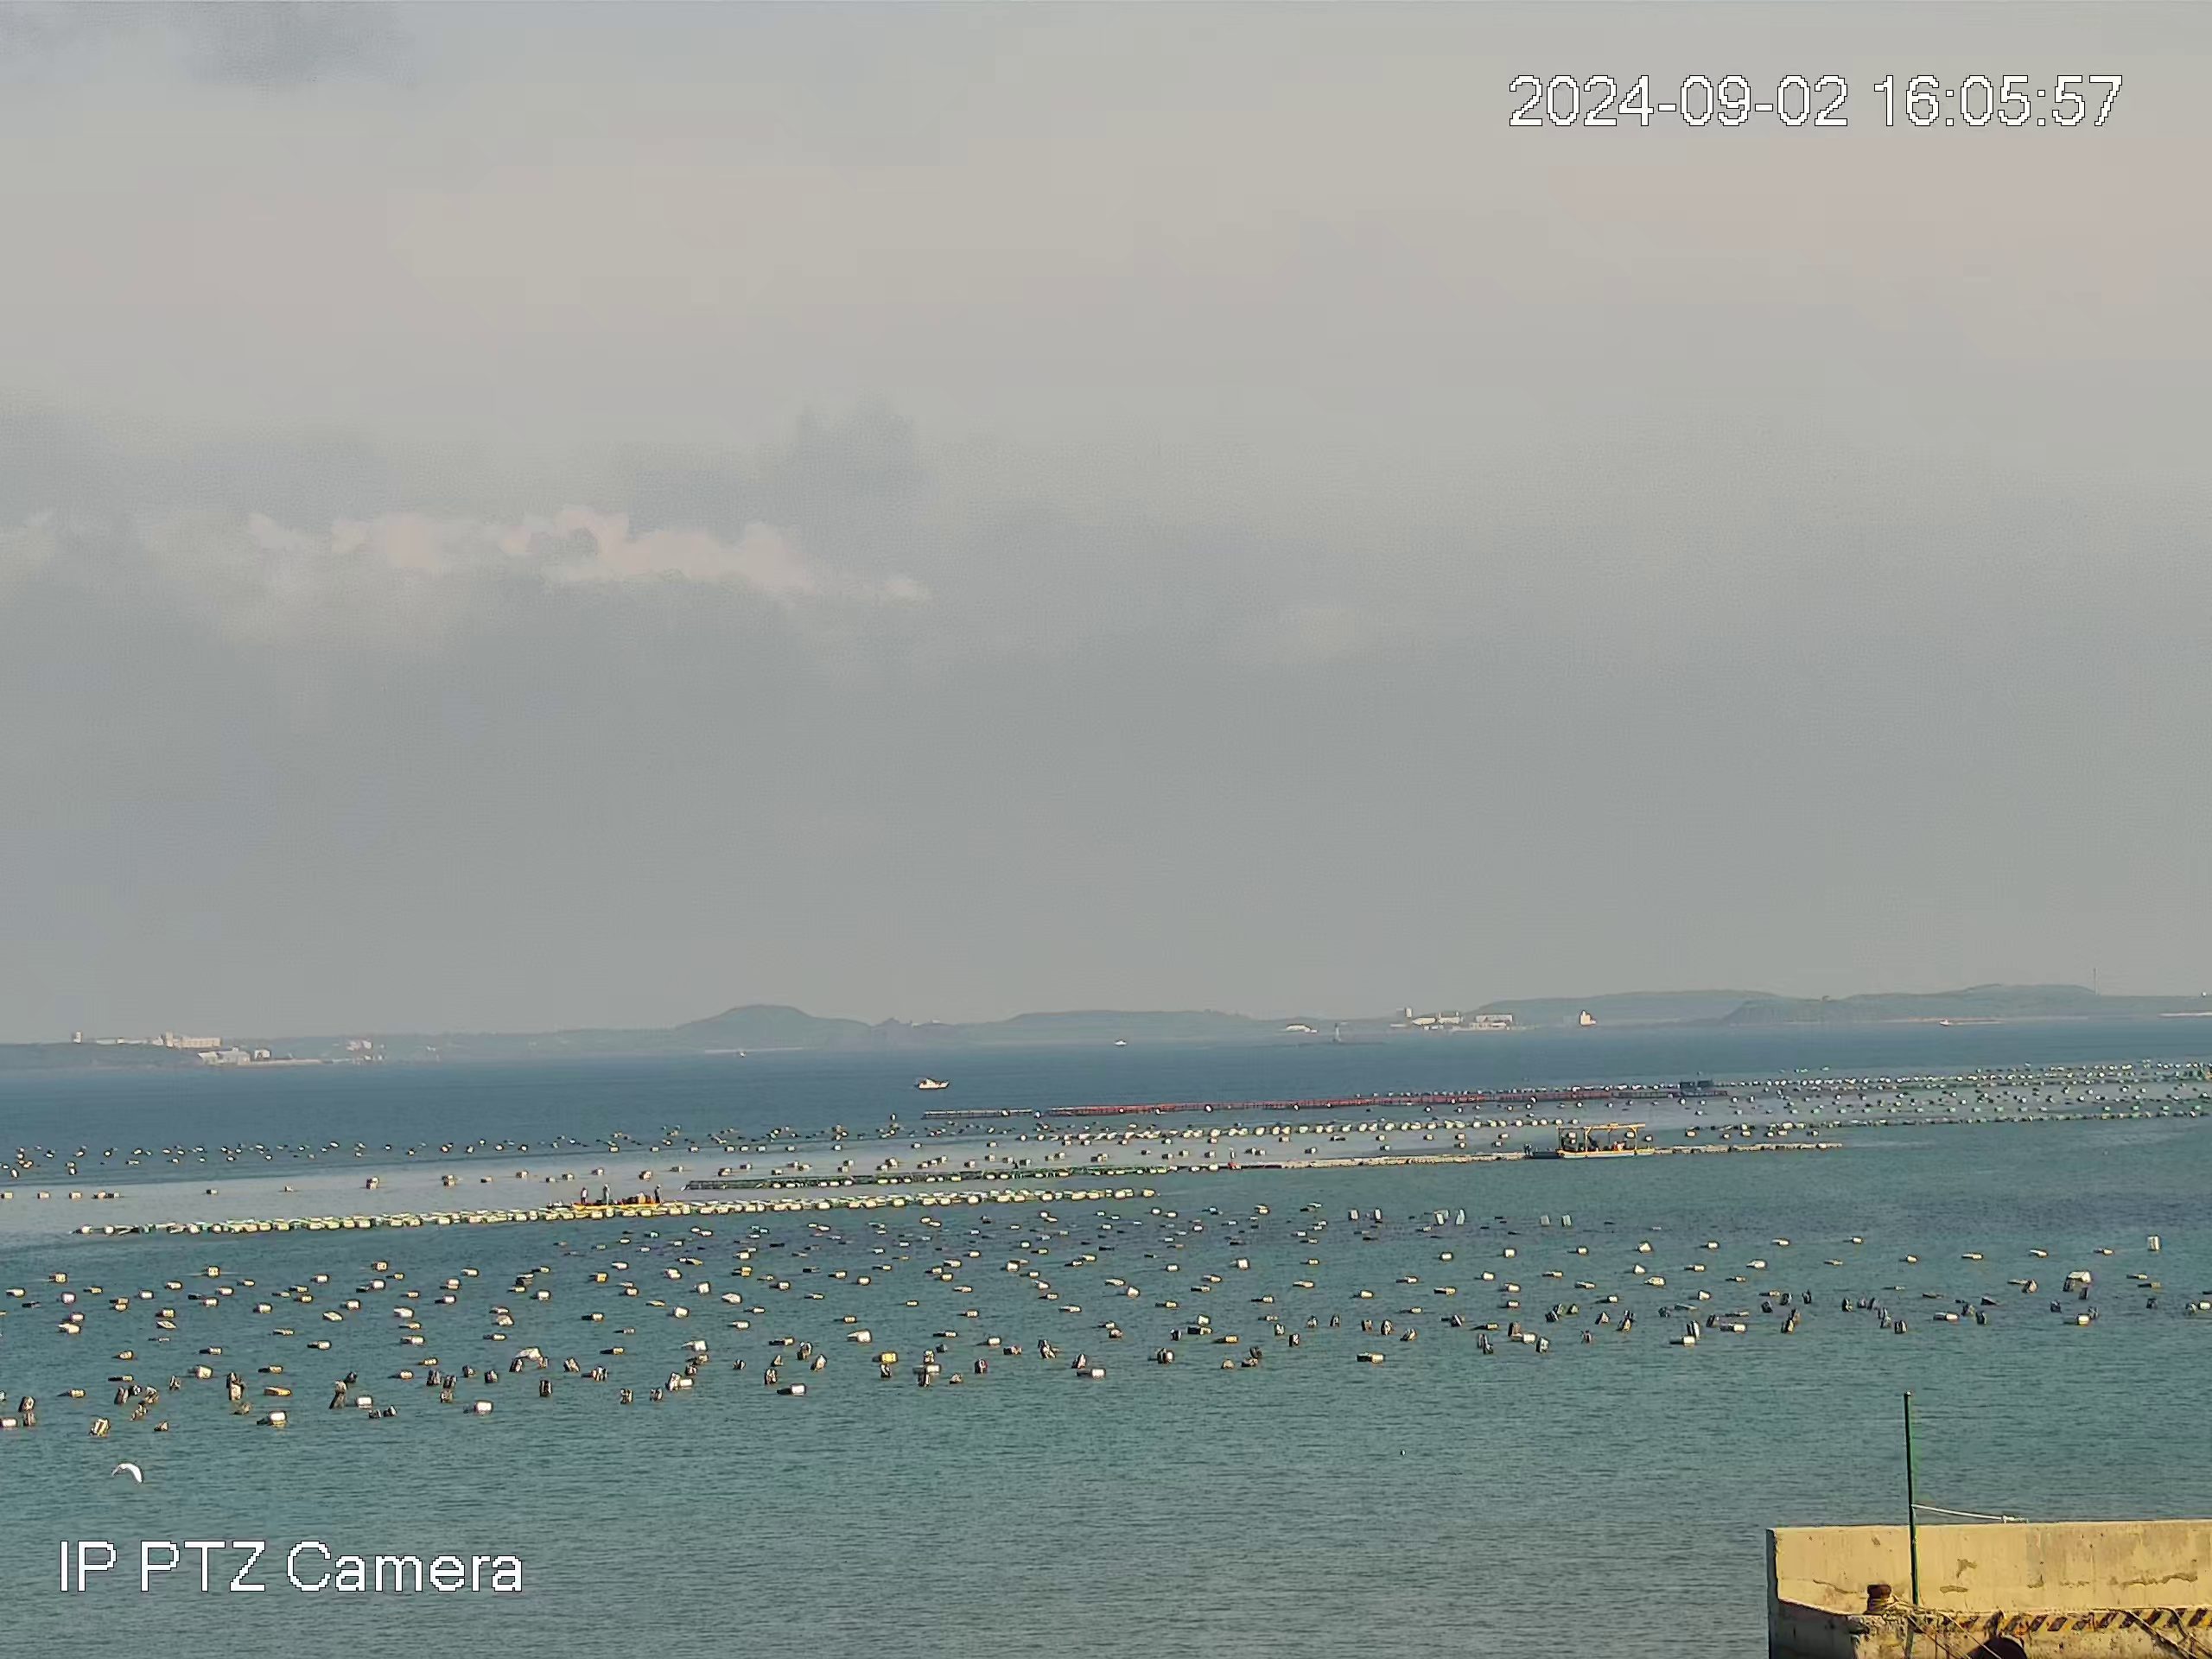boat: (1554, 1122, 1656, 1160), (569, 1182, 664, 1209), (915, 1076, 950, 1090)
